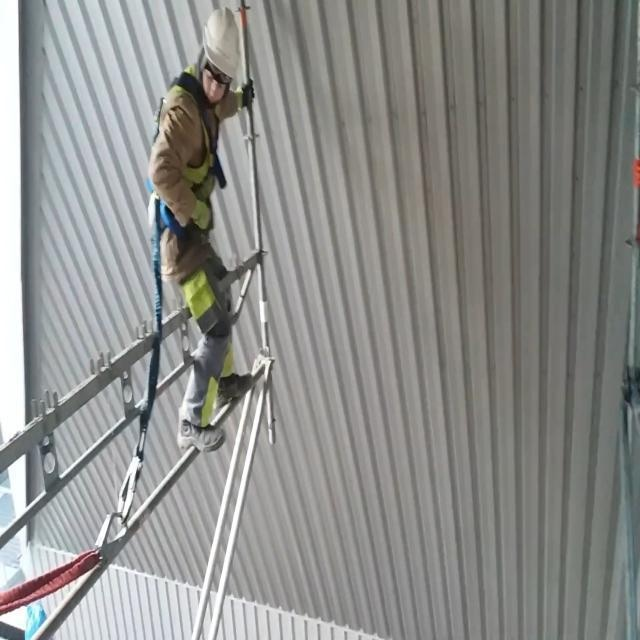Arnes_seguridad: (143, 63, 222, 281)
